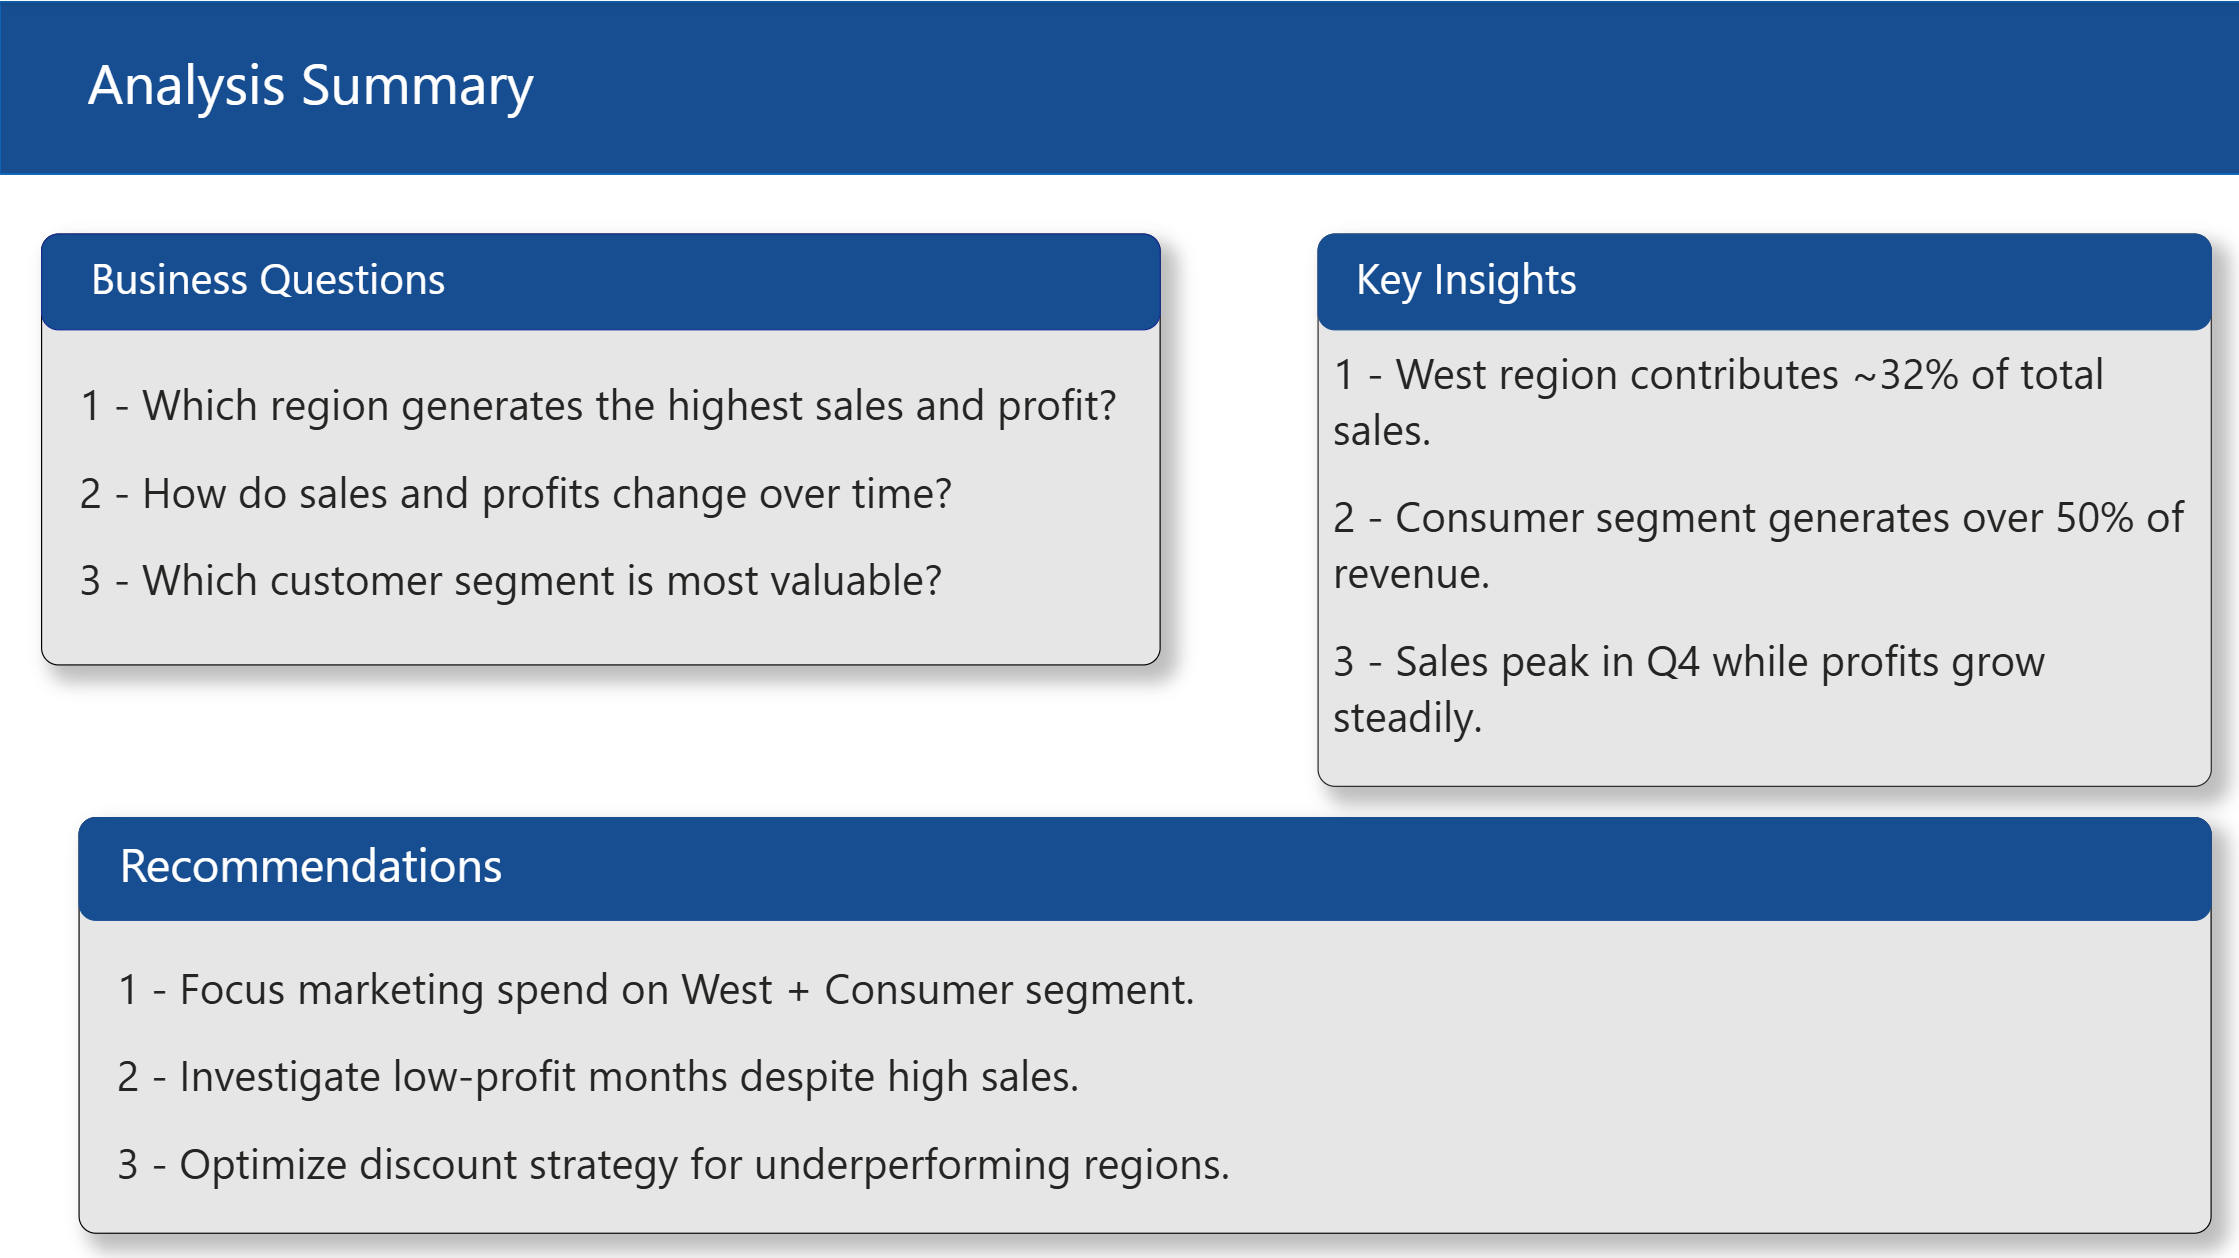

The dashboard page shown, as its layout file describes it:
{"tool":"powerbi","page":{"name":"Analysis Summary","canvas":[1280,720],"ordinal":1},"visuals":[{"type":"shape","box":[0,0,1280.4,99.3],"z":0},{"type":"textbox","box":[45.3,18.5,1234.7,80.5],"z":1},{"type":"textbox","box":[24,133.2,639.1,246.9],"z":2},{"type":"textbox","box":[45.3,466.1,1218,237.7],"z":3},{"type":"textbox","box":[752.8,133.2,510.5,316.3],"z":4},{"type":"textbox","box":[24,133.2,639.1,55.5],"z":5},{"type":"textbox","box":[752.8,133.2,510.5,55.5],"z":6},{"type":"textbox","box":[45.3,466.1,1218,59.2],"z":7}]}

Visuals, with their boxes in screenshot pixels (x1, y1, x2, y2), scaled from the page's 1280x720 canvas onto the 2239x1258 screenshot:
shape: pyautogui.locateOnScreen(0, 0, 2238, 173)
textbox: pyautogui.locateOnScreen(79, 32, 2238, 173)
textbox: pyautogui.locateOnScreen(42, 233, 1160, 664)
textbox: pyautogui.locateOnScreen(79, 814, 2210, 1230)
textbox: pyautogui.locateOnScreen(1317, 233, 2210, 785)
textbox: pyautogui.locateOnScreen(42, 233, 1160, 330)
textbox: pyautogui.locateOnScreen(1317, 233, 2210, 330)
textbox: pyautogui.locateOnScreen(79, 814, 2210, 918)
